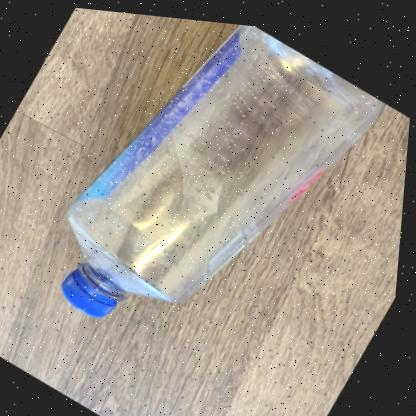Plastic: (67, 20, 385, 314)
